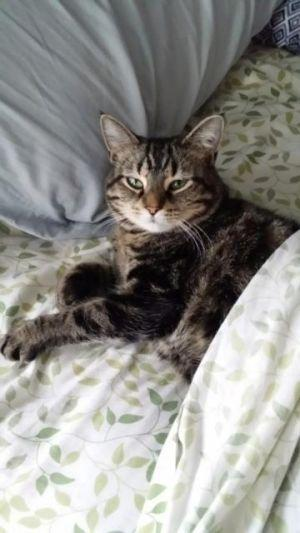bengal: (96, 107, 233, 246)
